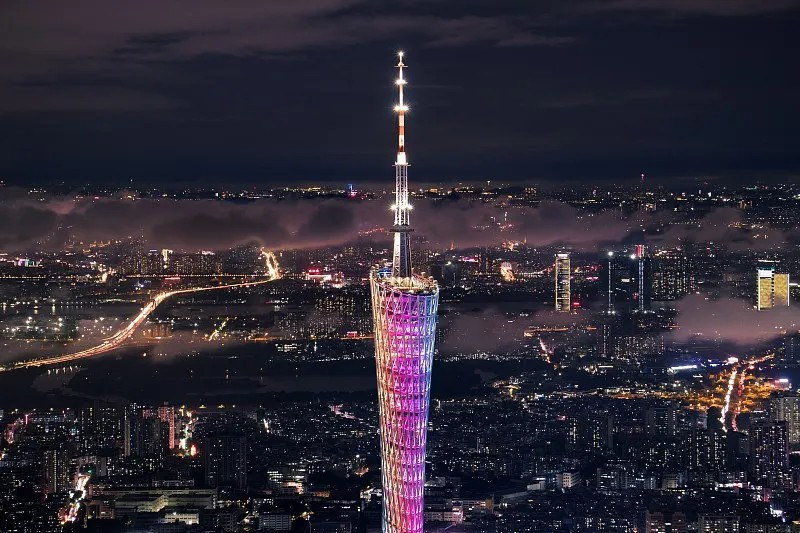Canton: (369, 48, 442, 533)
